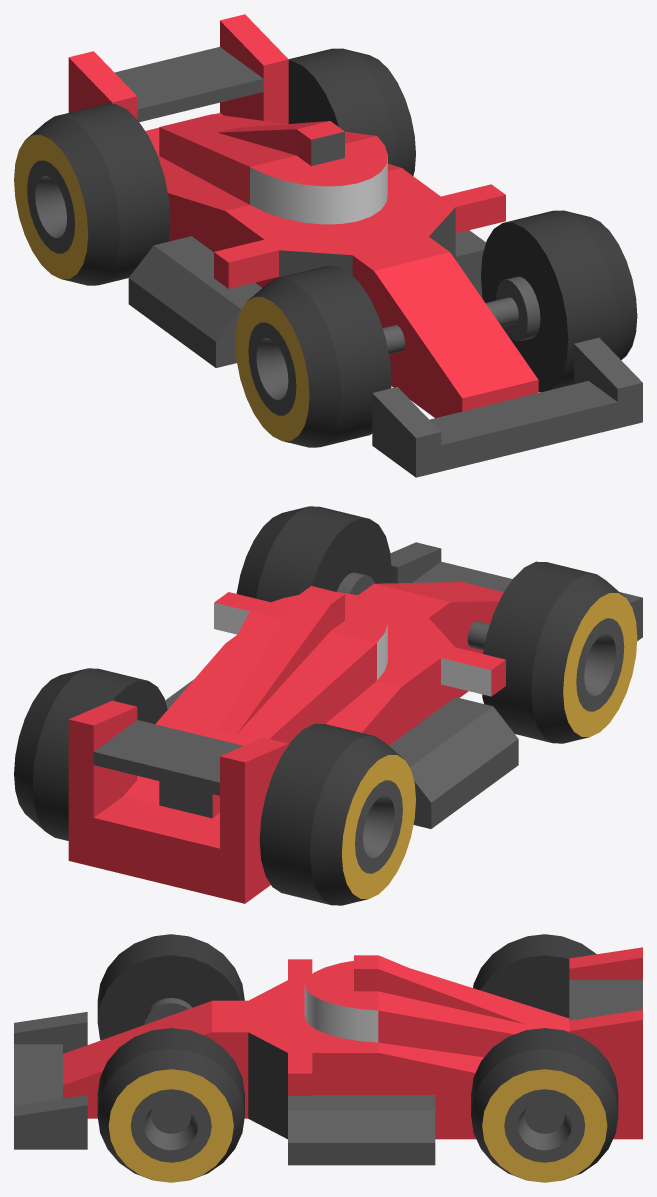
The model's file is race.fbx.
The picture shows the model from 3 angles, top to bottom: view 1: azimuth 30°, elevation 25°; view 2: azimuth 150°, elevation 25°; view 3: azimuth 270°, elevation 25°; orthographic projection. The views are drawn at different scales.
Visible parts, largest first — view 1: body, wheel_frontRight, wheel_backRight, wheel_frontLeft, wheel_backLeft; view 2: body, wheel_backRight, wheel_frontRight, wheel_backLeft, wheel_frontLeft; view 3: body, wheel_backLeft, wheel_frontLeft, wheel_frontRight, wheel_backRight.
Boxes of the visible parts, x1,y1,x2,y2 form: body: [68, 14, 642, 477]; wheel_frontRight: [235, 266, 391, 447]; wheel_backRight: [14, 104, 170, 285]; wheel_frontLeft: [481, 210, 637, 392]; wheel_backLeft: [288, 48, 415, 175]; body: [68, 542, 642, 903]; wheel_backRight: [259, 723, 415, 905]; wheel_frontRight: [482, 561, 637, 743]; wheel_backLeft: [14, 668, 167, 840]; wheel_frontLeft: [236, 506, 391, 602]; body: [14, 947, 642, 1165]; wheel_backLeft: [471, 1028, 618, 1182]; wheel_frontLeft: [97, 1028, 244, 1182]; wheel_frontRight: [97, 934, 244, 1040]; wheel_backRight: [473, 934, 596, 1018].
Size of the model in its own units: 13 by 7.33 by 25.6.
